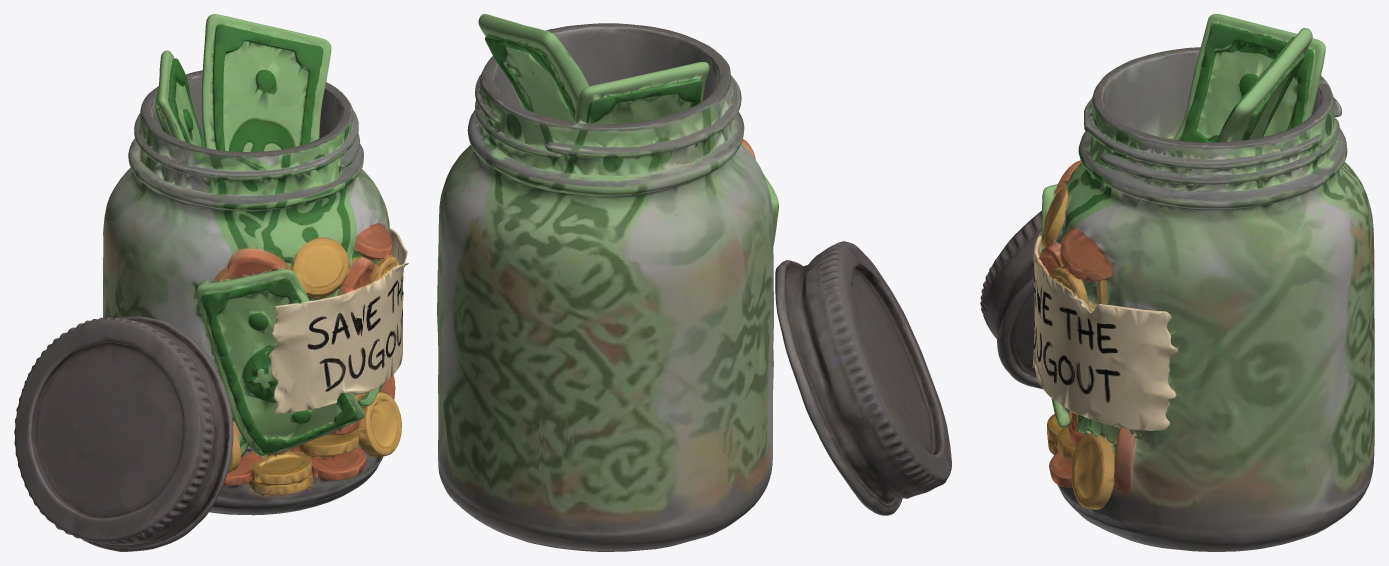
File: fund_jar.glb
The picture shows the model from 3 angles, left to right: view 1: azimuth 30°, elevation 25°; view 2: azimuth 150°, elevation 25°; view 3: azimuth 270°, elevation 25°; orthographic projection. The views are drawn at different scales.
Size of the model in its own units: 1.77 by 1.9 by 1.45.
1 material, 1 textured.
